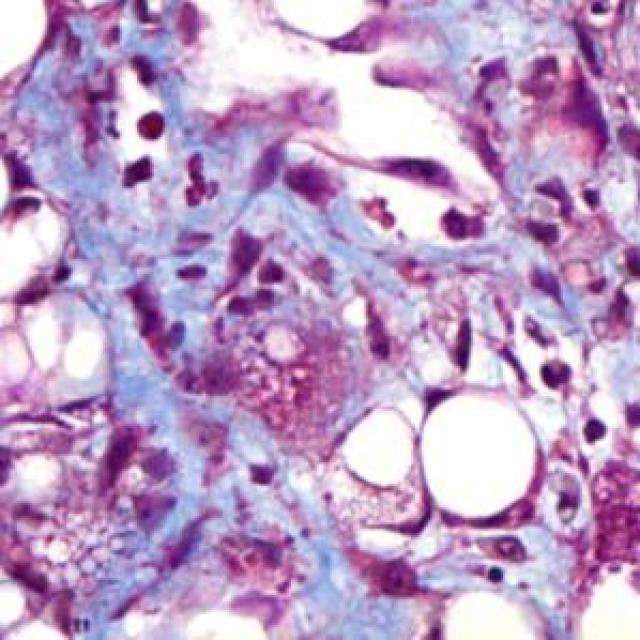steatosis: (418, 394, 552, 520)
